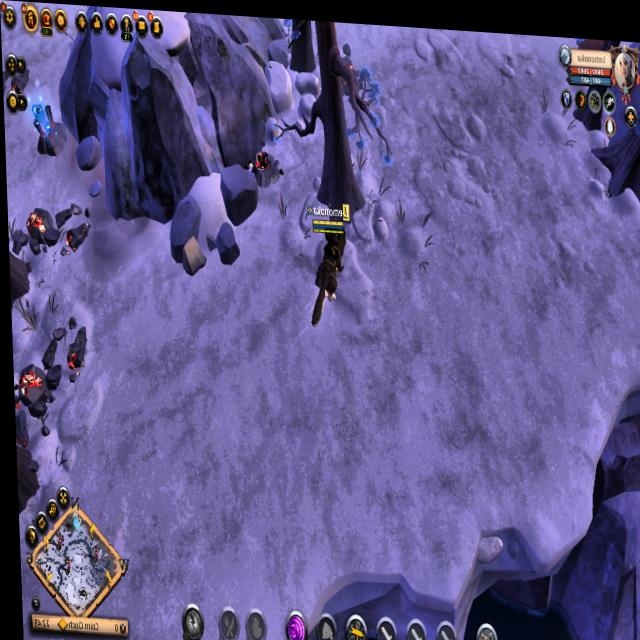ore tier 5: (30, 96, 66, 160)
rock tier 1: (173, 223, 206, 281)
